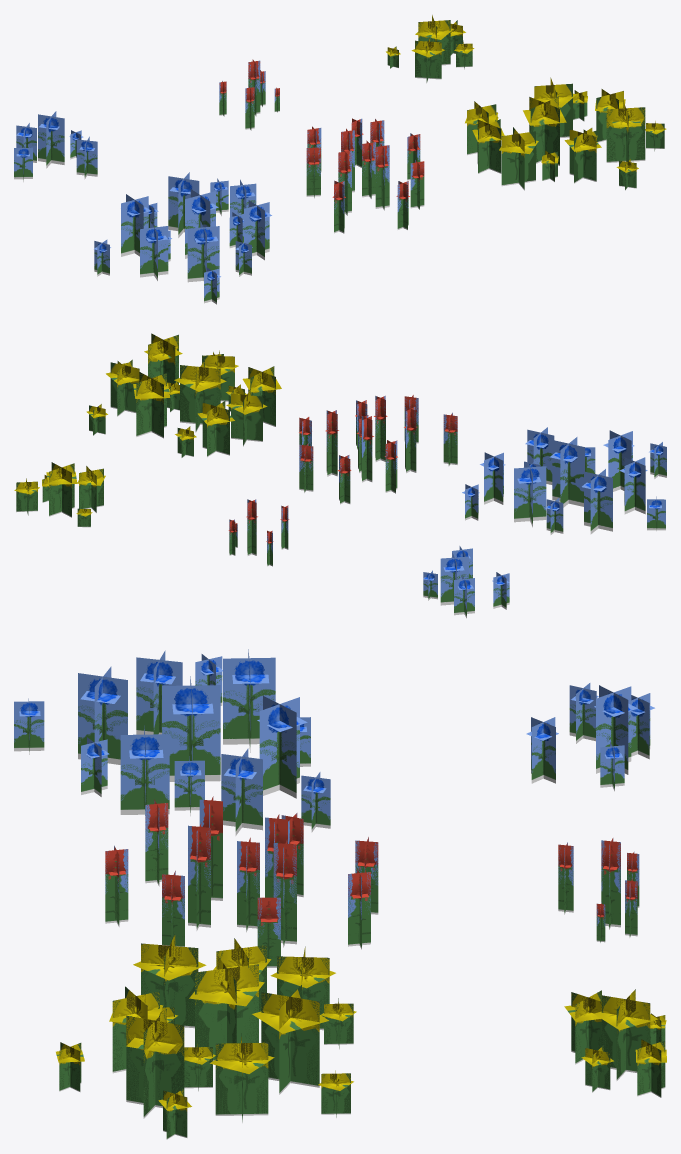
File: GrassLandFlowerPatches.fbx
3 views of the same model, one above another, from view 1: azimuth 30°, elevation 25°; view 2: azimuth 150°, elevation 25°; view 3: azimuth 270°, elevation 25° (orthographic). The views are drawn at different scales.
Parts seen in each view (by area): view 1: YellowFlowerPatchLarge, BlueFlowerPatchLarge, RedFlowerPatchLarge, BlueFlowerPatchSmall, YellowFlowerPatchSmall, RedFlowerPatchSmall; view 2: YellowFlowerPatchLarge, BlueFlowerPatchLarge, RedFlowerPatchLarge, YellowFlowerPatchSmall, BlueFlowerPatchSmall, RedFlowerPatchSmall; view 3: YellowFlowerPatchLarge, BlueFlowerPatchLarge, RedFlowerPatchLarge, YellowFlowerPatchSmall, BlueFlowerPatchSmall, RedFlowerPatchSmall.
Boxes of the visible parts, x1,y1,x2,y2 form: YellowFlowerPatchLarge: [465, 77, 666, 190]; BlueFlowerPatchLarge: [94, 172, 271, 304]; RedFlowerPatchLarge: [306, 118, 424, 233]; BlueFlowerPatchSmall: [14, 111, 97, 181]; YellowFlowerPatchSmall: [386, 15, 474, 83]; RedFlowerPatchSmall: [219, 59, 279, 130]; YellowFlowerPatchLarge: [86, 333, 281, 457]; BlueFlowerPatchLarge: [462, 427, 666, 534]; RedFlowerPatchLarge: [299, 395, 457, 504]; YellowFlowerPatchSmall: [14, 462, 105, 527]; BlueFlowerPatchSmall: [423, 546, 509, 618]; RedFlowerPatchSmall: [228, 499, 289, 566]; YellowFlowerPatchLarge: [56, 934, 356, 1139]; BlueFlowerPatchLarge: [14, 649, 330, 835]; RedFlowerPatchLarge: [105, 796, 378, 967]; YellowFlowerPatchSmall: [564, 989, 666, 1097]; BlueFlowerPatchSmall: [526, 683, 654, 791]; RedFlowerPatchSmall: [558, 838, 639, 942].
Size of the model in its own units: 9.44 by 1 by 5.93.
1 material, 1 textured.
